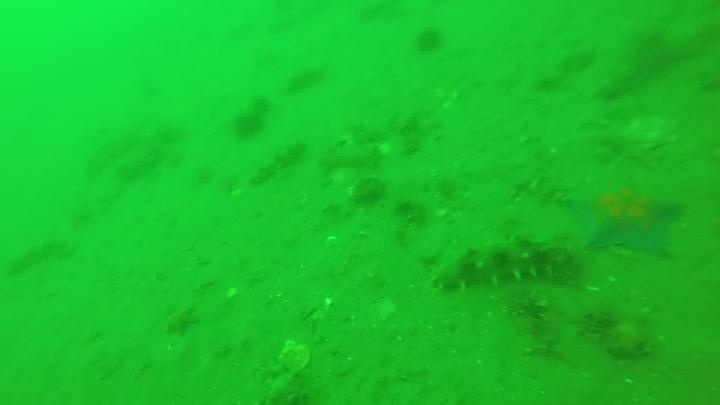echinus: (232, 109, 266, 141), (414, 26, 446, 54), (247, 94, 274, 119)
holothurian: (428, 236, 580, 293), (3, 234, 74, 278), (248, 139, 307, 187)
scallop: (600, 111, 682, 157)
starfish: (563, 177, 686, 260), (164, 304, 201, 339)
